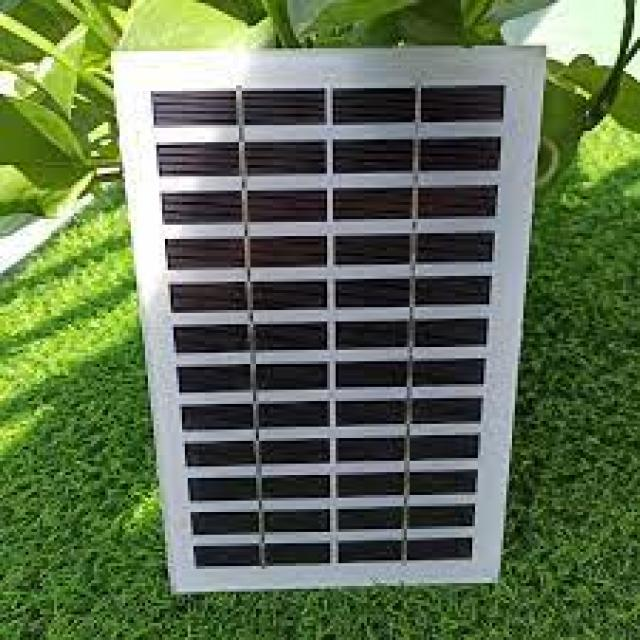no faulty: (142, 81, 501, 583)
